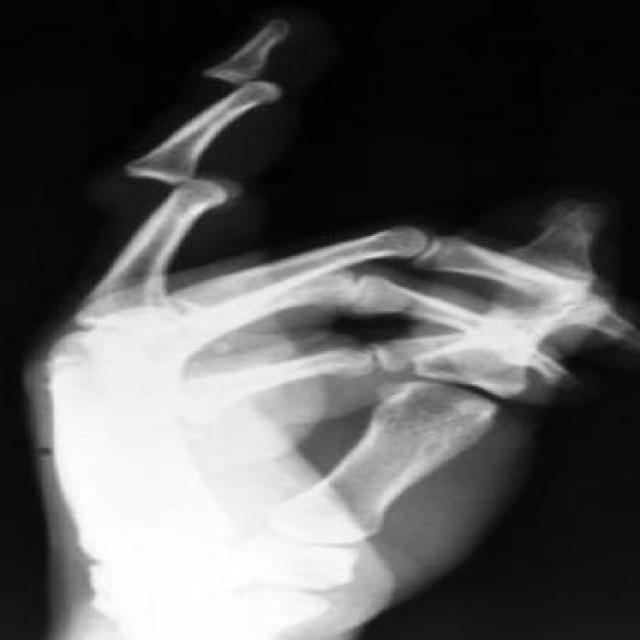Fracture: (117, 159, 245, 210), (191, 66, 299, 106)
